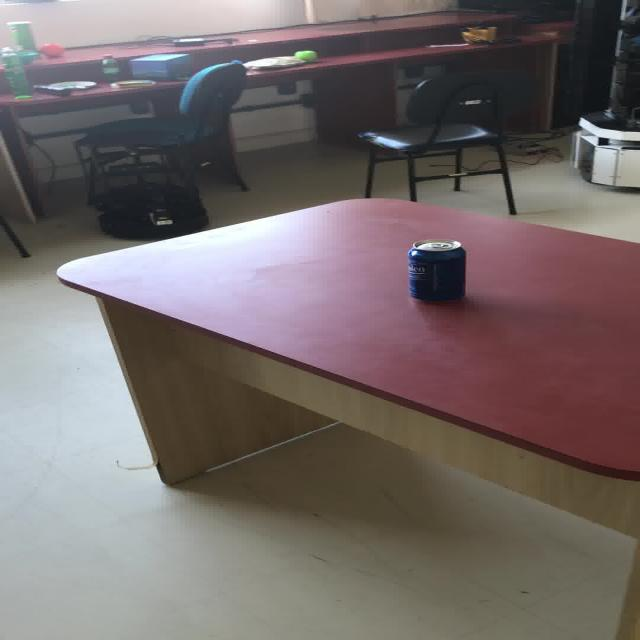tonic: (405, 238, 466, 301), (0, 46, 33, 98), (5, 20, 38, 53)
